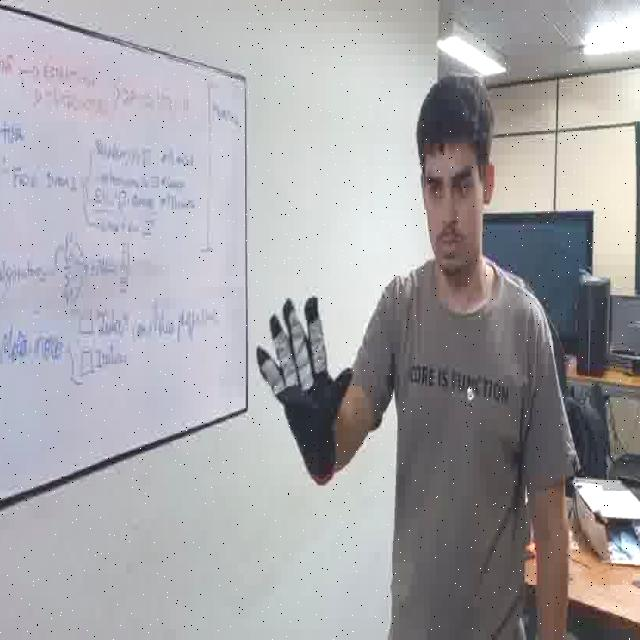Gloves: (256, 295, 350, 484)
